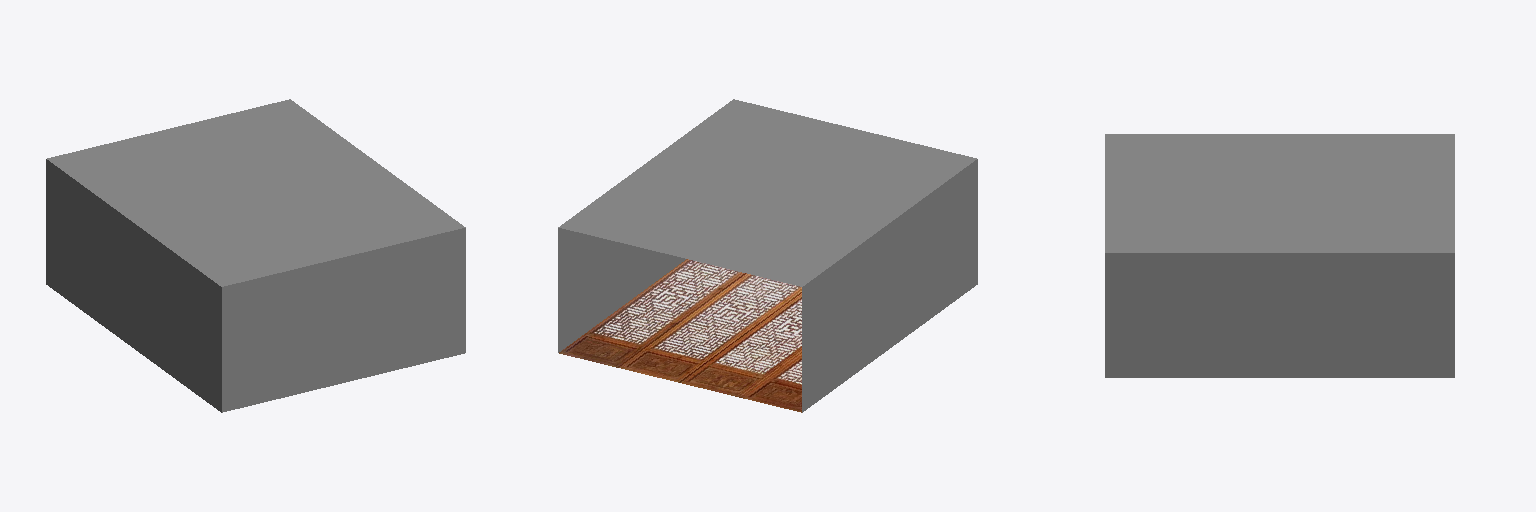
The picture shows the model from 3 angles: view 1: azimuth 30°, elevation 25°; view 2: azimuth 150°, elevation 25°; view 3: azimuth 270°, elevation 25°; orthographic projection.
Parts seen in each view (by area): view 1: Rectangle001; view 2: Rectangle001; view 3: Rectangle001.
Part boxes in pixels (x1,y1,x2,y2): Rectangle001: (46, 99, 465, 412); Rectangle001: (558, 99, 977, 412); Rectangle001: (1105, 134, 1454, 377).
Size of the model in its own units: 4.81 by 2.37 by 5.99.
Materials: 2 (1 with a texture image).